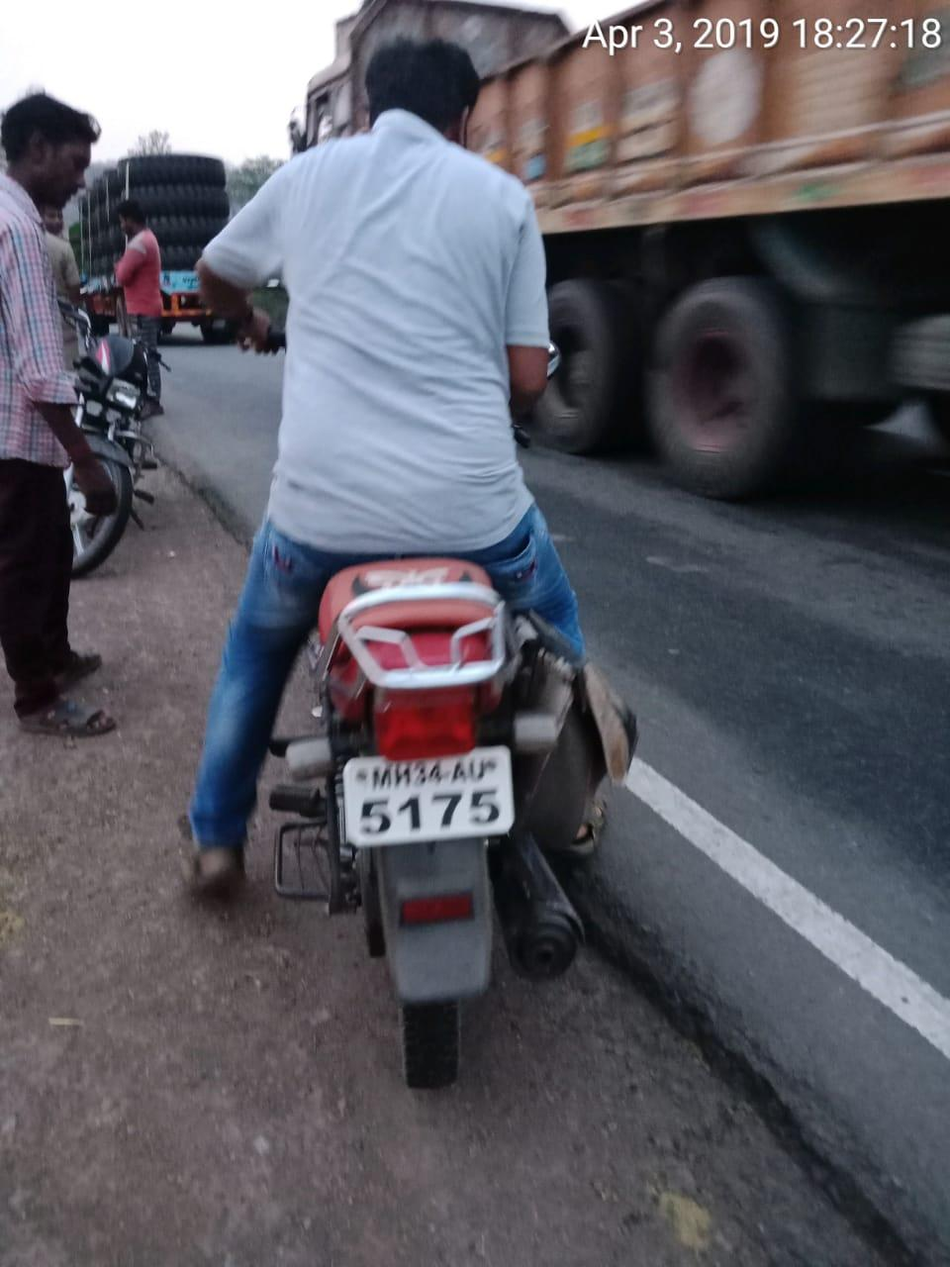plate: (315, 732, 539, 874)
